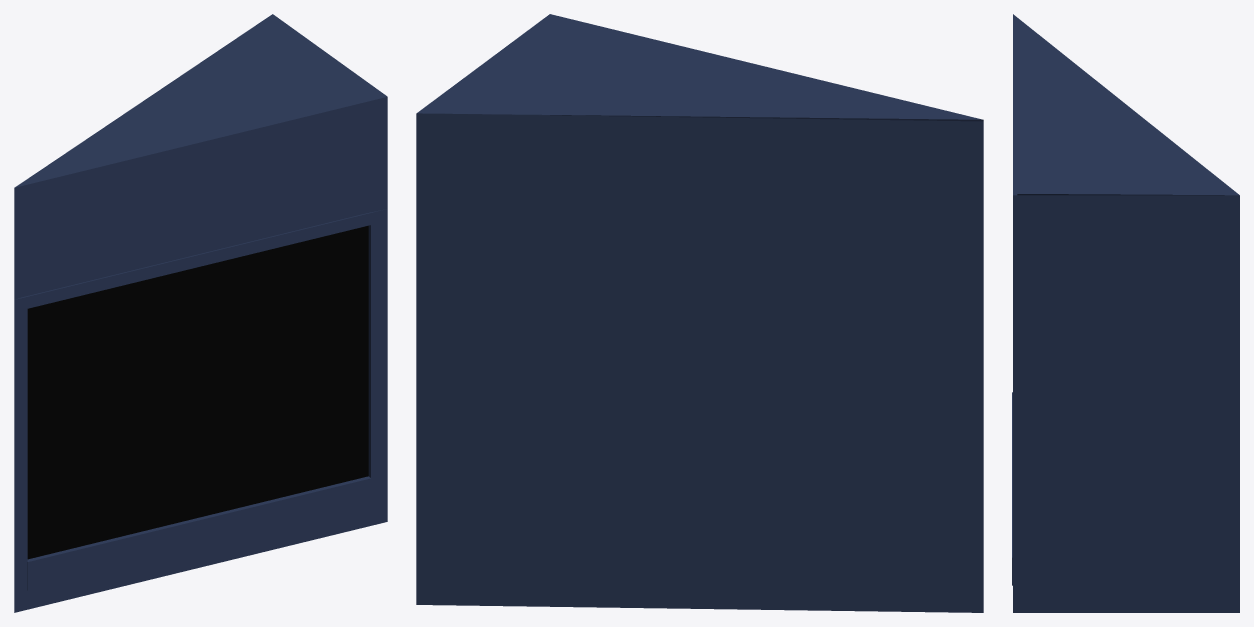
Rendered from BildschirmTafel.fbx.
The picture shows the model from 3 angles, left to right: view 1: azimuth 30°, elevation 25°; view 2: azimuth 150°, elevation 25°; view 3: azimuth 270°, elevation 25°; orthographic projection. The views are drawn at different scales.
Parts seen in each view (by area): view 1: Cube; view 2: Cube; view 3: Cube.
Part boxes in pixels (x1,y1,x2,y2): Cube: (14,14,387,612); Cube: (416,14,983,612); Cube: (1012,14,1239,612).
Size of the model in its own units: 300 by 326 by 161.
